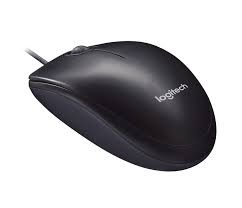mouse: (17, 34, 218, 177)
